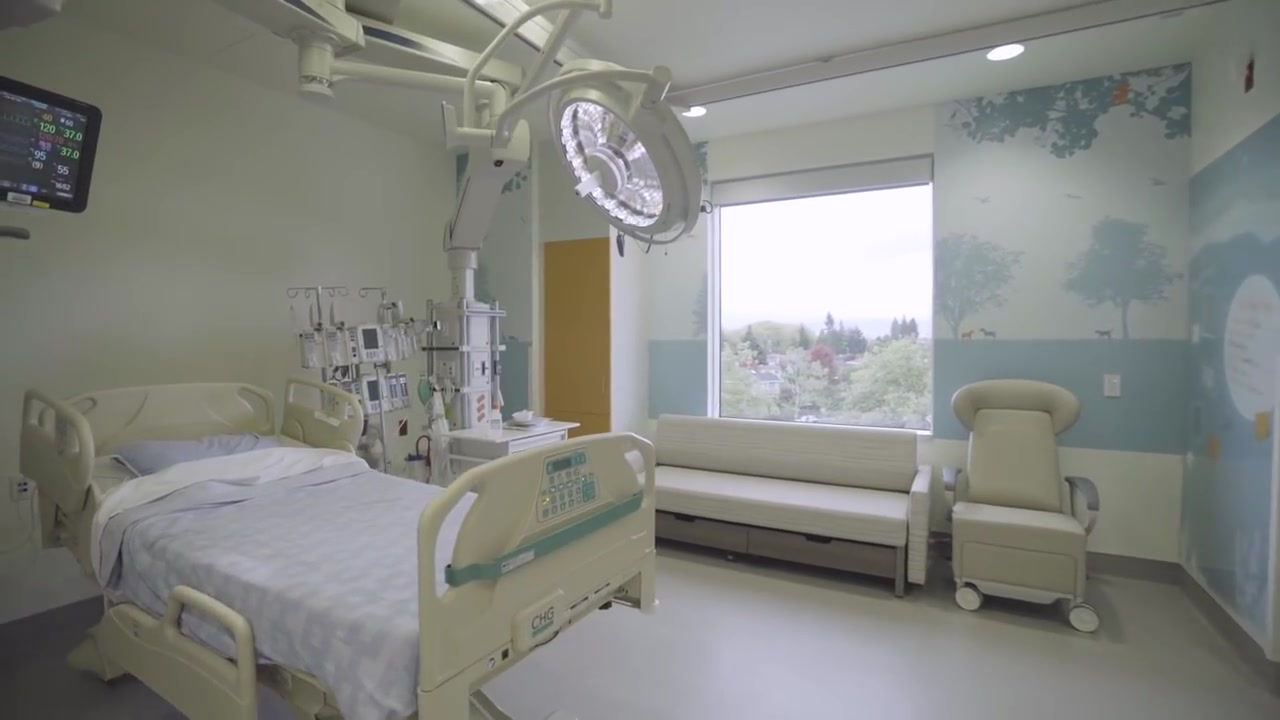bedrail: (97, 585, 257, 720), (19, 388, 93, 517), (280, 378, 364, 456)
bedside_monitor: (1, 77, 100, 217)
bedside_table: (442, 418, 581, 487)
chair: (942, 379, 1100, 632)
foot_board: (417, 431, 659, 694)
handle: (601, 376, 606, 397)
hospital_bed: (19, 375, 659, 720)
infusion_pump: (301, 315, 417, 375), (313, 377, 411, 413)
iv_pole: (286, 285, 349, 386), (358, 286, 391, 473)
light_switch: (1103, 372, 1122, 399)
sofa: (623, 413, 933, 597)
surgical_light: (547, 60, 702, 245)
